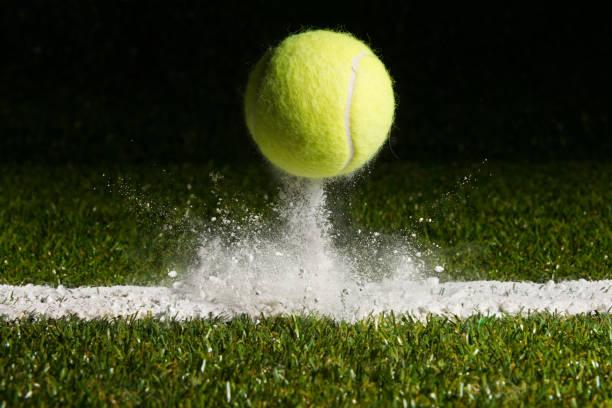ball_tennis: (244, 27, 396, 181)
